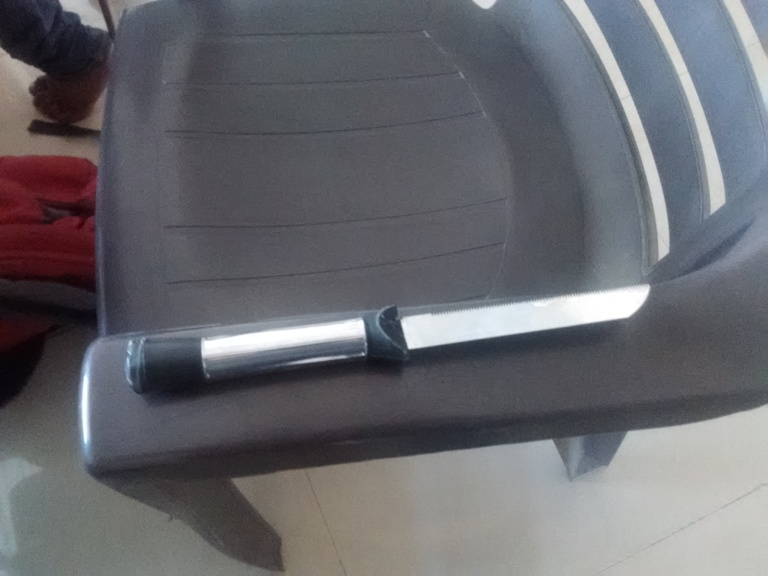knife: (120, 279, 652, 393)
